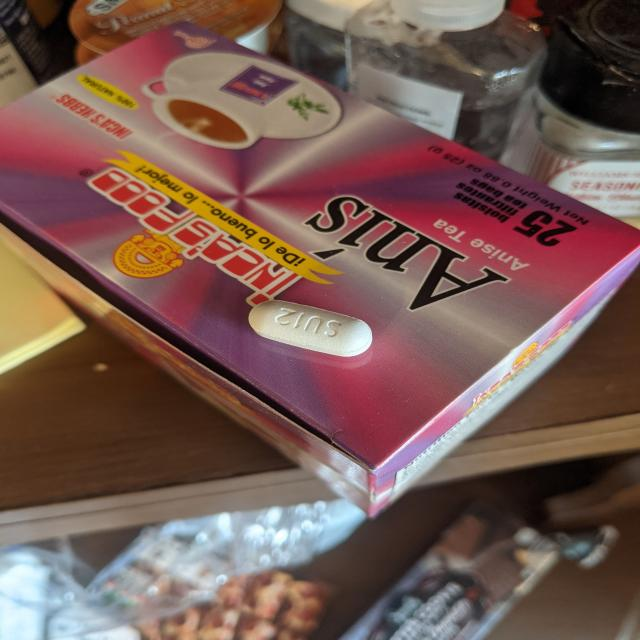non-organic waste: (247, 299, 373, 357)
